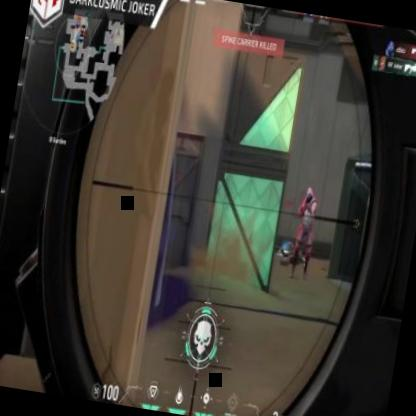enemy: (282, 185, 322, 281)
enemy_head: (304, 186, 314, 201)
